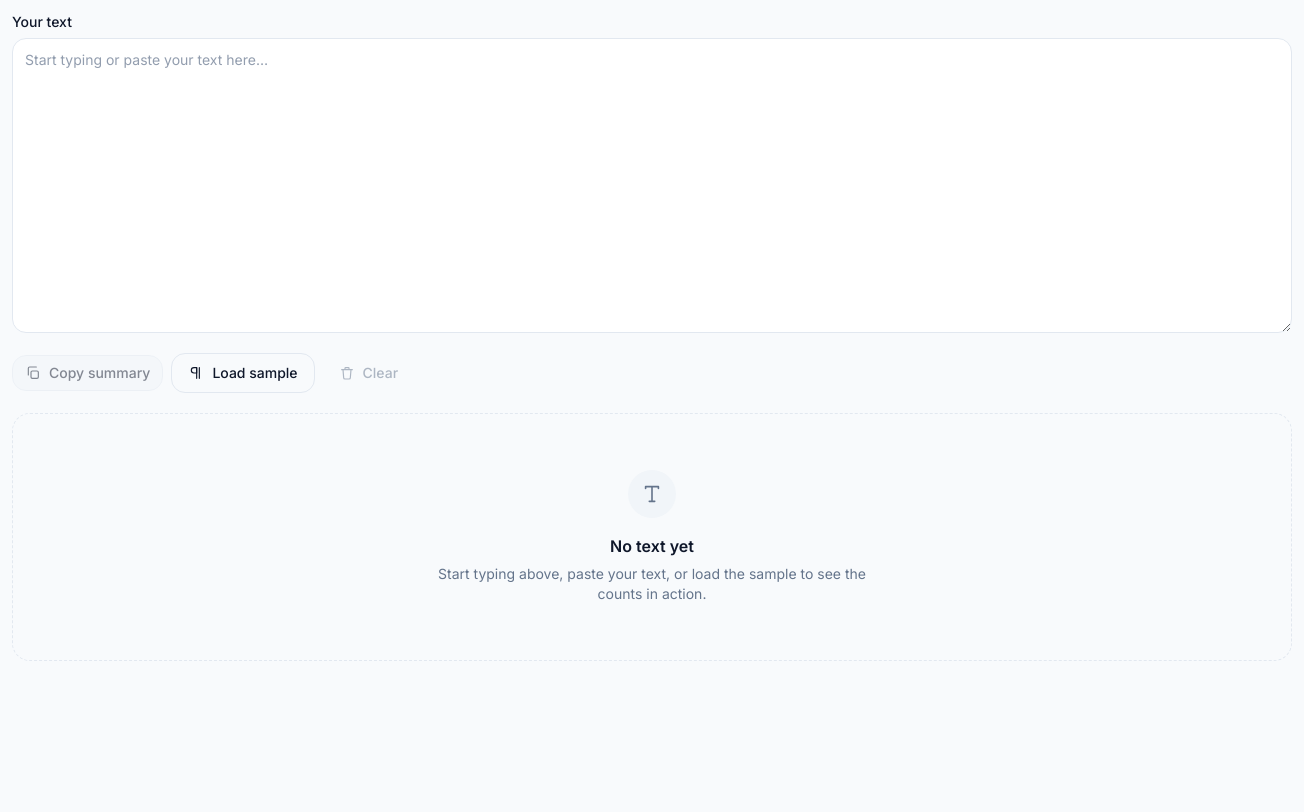
WordCounterTool › counts words live as the user types
Type "one two three" into the text box labelled "Your text" at (652,186), box left=12, top=38, right=1292, bottom=333
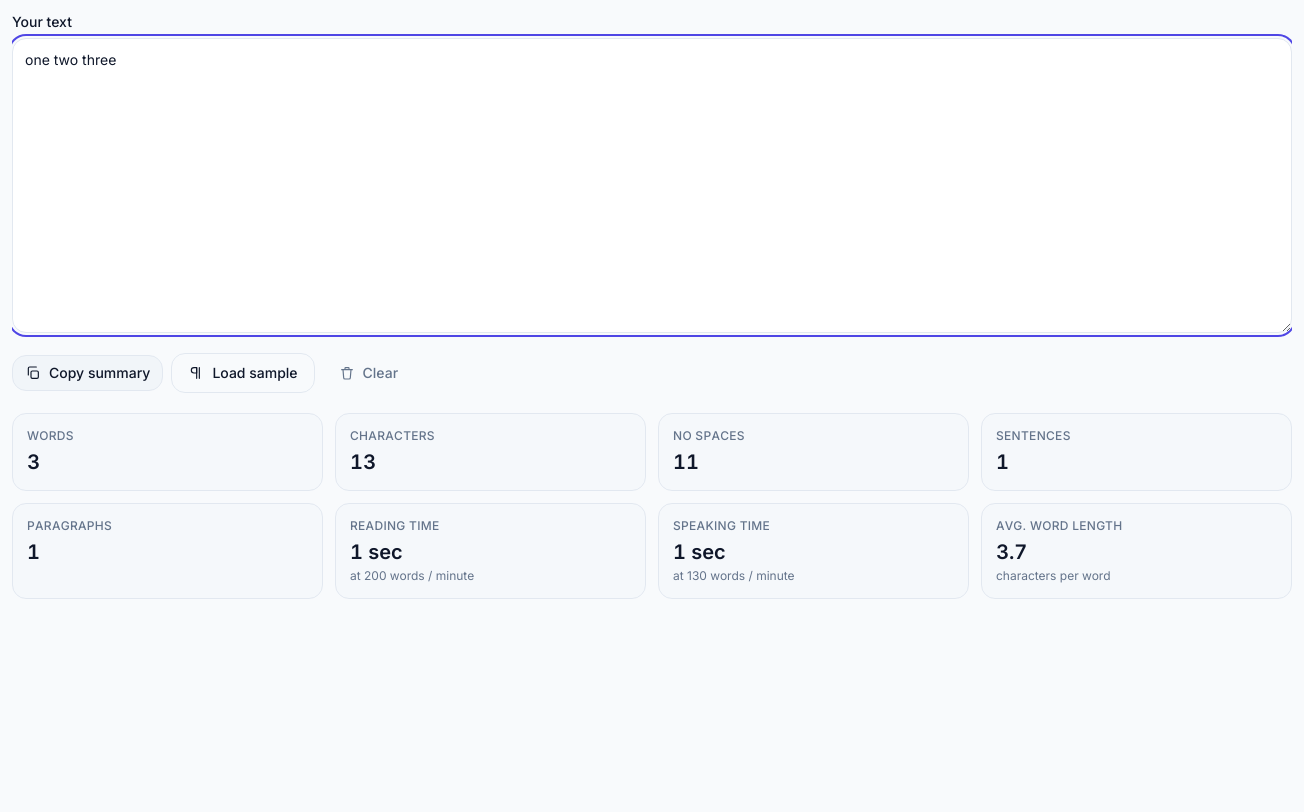
Now the text "Words" shows "3", box left=27, top=450, right=40, bottom=474
